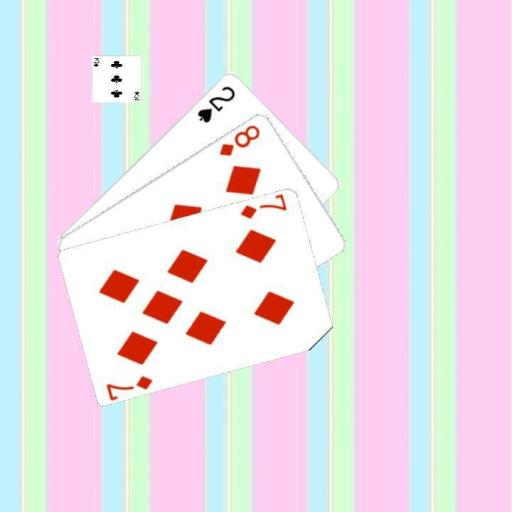card-corner: (194, 82, 237, 124), (216, 121, 262, 158), (237, 192, 289, 220), (103, 372, 154, 399)
